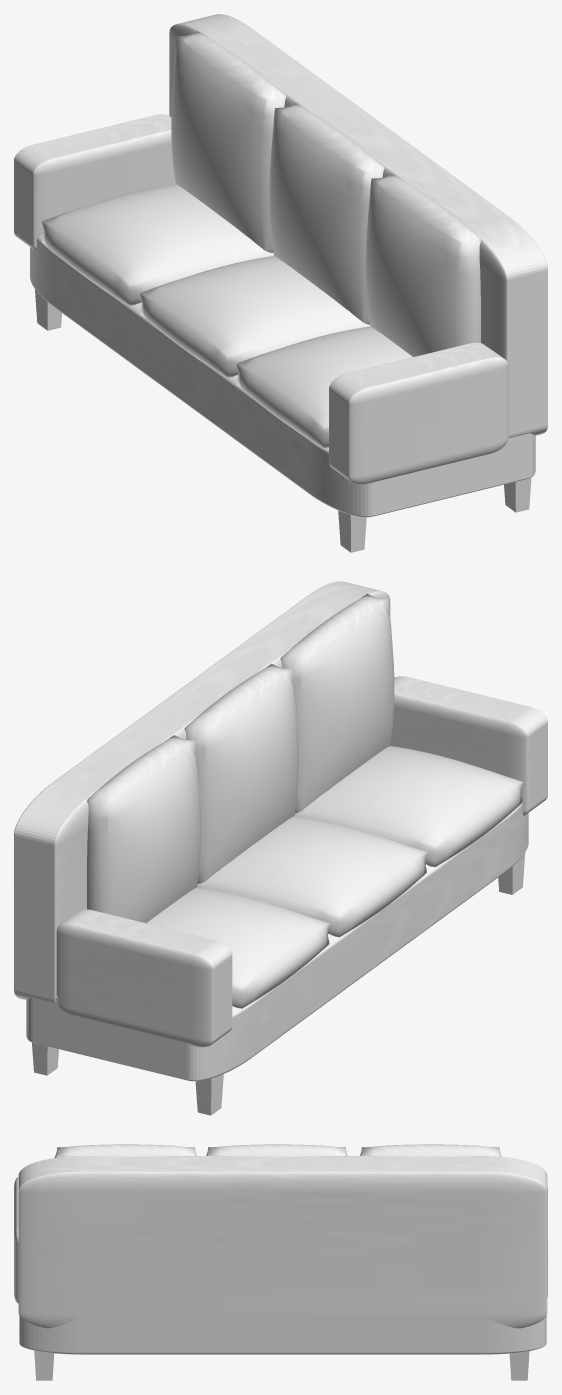
The model's file is couch1.obj.
3 renders of one model, top to bottom at view 1: azimuth 30°, elevation 25°; view 2: azimuth 150°, elevation 25°; view 3: azimuth 270°, elevation 25°, orthographic. The views are drawn at different scales.
Parts seen in each view (by area): view 1: Cube.004, Cube.007, Cube.009_Cube.011, Cube.006, Cube.013, Cube.010_Cube.005, Cube.005_Cube.010, Cube.011_Cube.009, Cube.008, Cube.012, Cube, Cube.001 (+1 smaller); view 2: Cube.004, Cube.007, Cube.008, Cube.006, Cube.010_Cube.005, Cube.013, Cube.011_Cube.009, Cube.012, Cube.009_Cube.011, Cube.005_Cube.010, Cube.003, Cube.002 (+1 smaller); view 3: Cube.007, Cube.004, Cube.013, Cube.006, Cube.010_Cube.005, Cube.009_Cube.011, Cube.001, Cube.002.
Boxes of the visible parts, <box> form: Cube.004: <box>30,235,535,517</box>; Cube.007: <box>169,14,547,438</box>; Cube.009_Cube.011: <box>329,342,508,484</box>; Cube.006: <box>171,31,286,252</box>; Cube.013: <box>365,173,480,356</box>; Cube.010_Cube.005: <box>269,103,384,324</box>; Cube.005_Cube.010: <box>42,184,273,305</box>; Cube.011_Cube.009: <box>140,256,370,377</box>; Cube.008: <box>14,114,175,250</box>; Cube.012: <box>236,326,412,447</box>; Cube: <box>338,510,366,552</box>; Cube.001: <box>504,477,531,512</box>; Cube.004: <box>26,803,528,1081</box>; Cube.007: <box>14,581,390,1003</box>; Cube.008: <box>56,909,232,1047</box>; Cube.006: <box>87,735,201,923</box>; Cube.010_Cube.005: <box>184,664,298,883</box>; Cube.013: <box>280,593,394,813</box>; Cube.011_Cube.009: <box>197,816,427,937</box>; Cube.012: <box>294,746,522,867</box>; Cube.009_Cube.011: <box>390,676,547,815</box>; Cube.005_Cube.010: <box>147,887,329,1008</box>; Cube.003: <box>195,1074,223,1115</box>; Cube.002: <box>32,1042,58,1075</box>; Cube.007: <box>18,1156,547,1328</box>; Cube.004: <box>19,1316,546,1354</box>; Cube.013: <box>54,1144,196,1157</box>; Cube.006: <box>360,1144,501,1156</box>; Cube.010_Cube.005: <box>206,1144,347,1156</box>; Cube.009_Cube.011: <box>14,1177,18,1303</box>; Cube.001: <box>34,1350,54,1380</box>; Cube.002: <box>509,1351,529,1380</box>.
Bounding box in the file's own units: 20.49 × 25.6 × 57.
